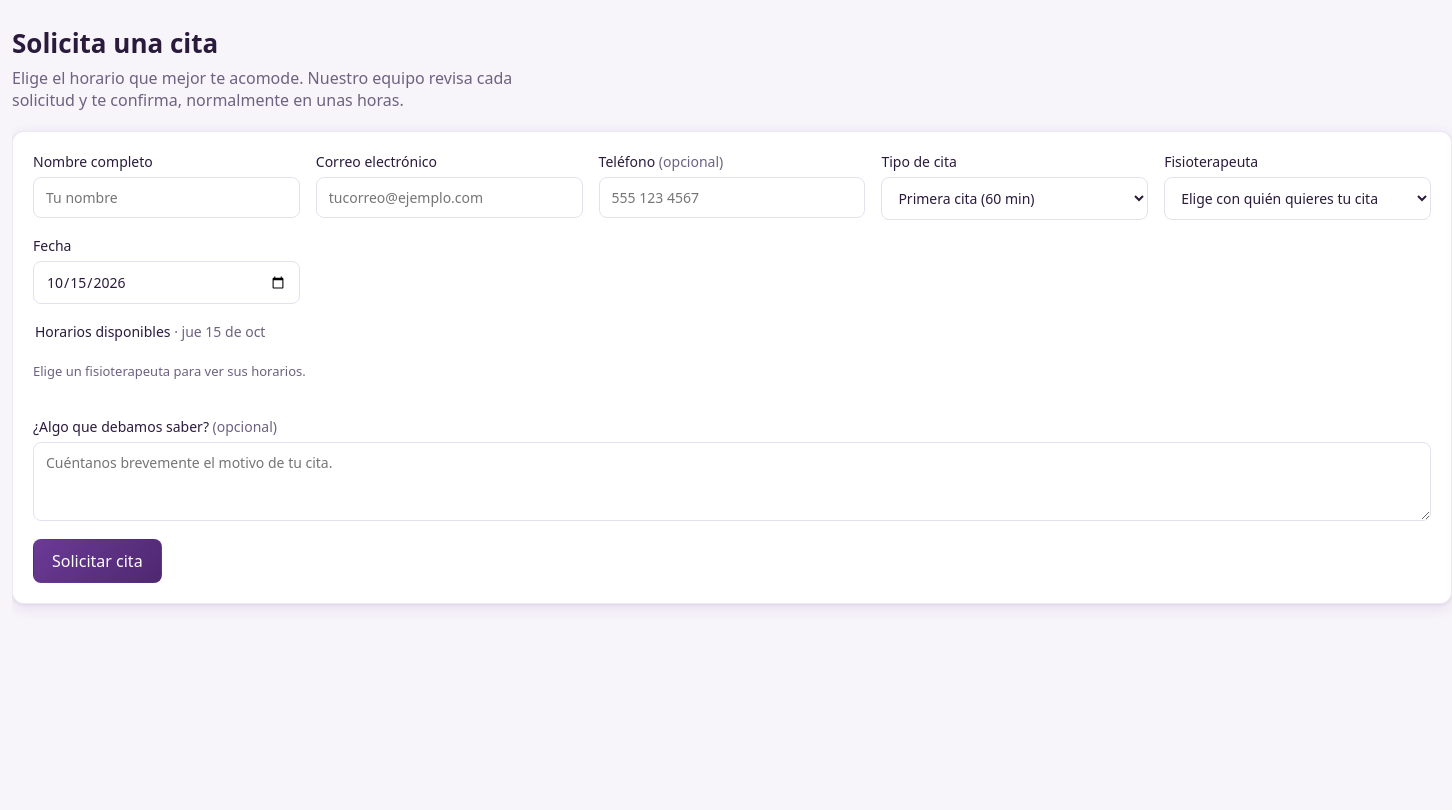
Test case: Home with the demo backend › hides a slot that is already booked and keeps the others
The width and height of the screenshot is (1452, 810).
Select "Ana Fisio" in the dropdown labelled "Fisioterapeuta" at (1298, 199), box [1164, 177, 1431, 220]
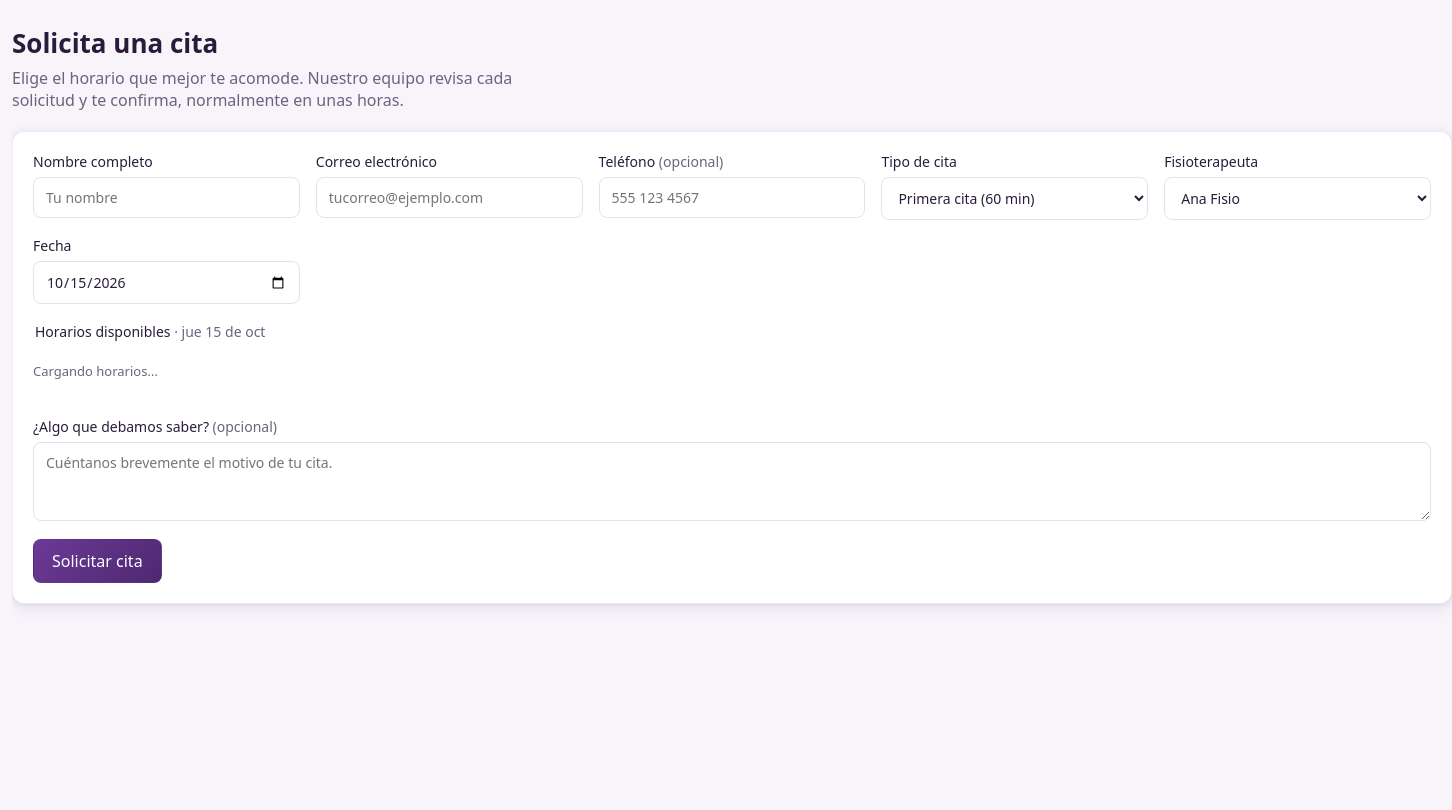
Type "2026-10-19" into the date field labelled "Fecha" at (166, 283), box [33, 261, 300, 304]
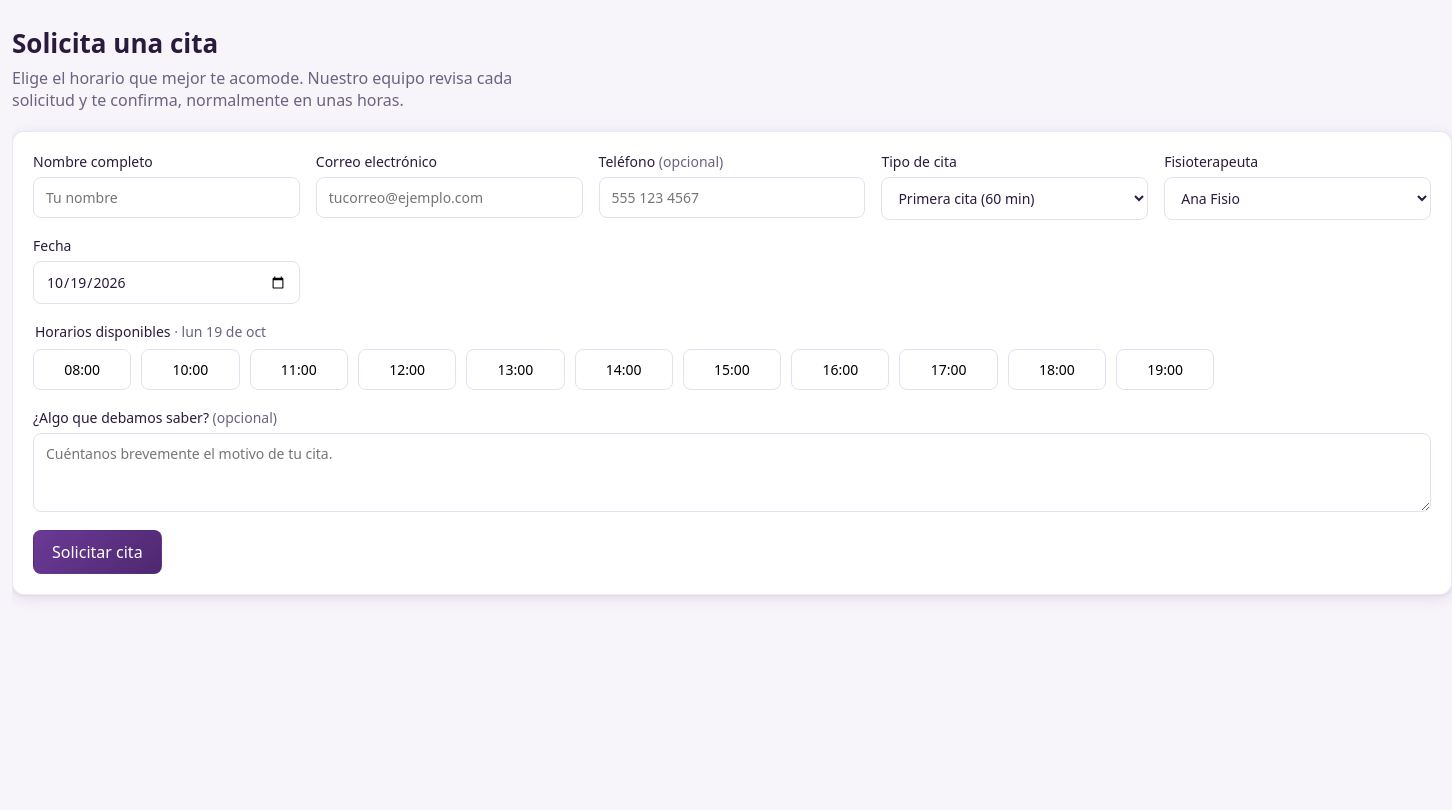
Now the button "10:00" is enabled, box [141, 349, 240, 390]
